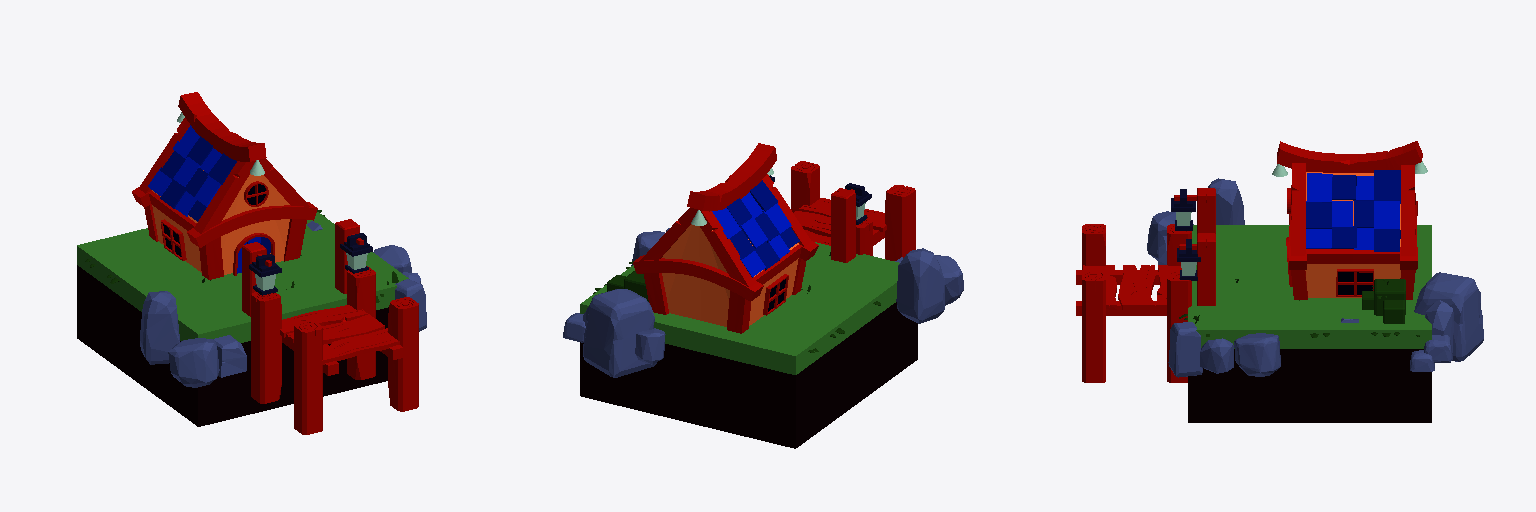
File: house.obj
3 views of the same model, side by side, from view 1: azimuth 30°, elevation 25°; view 2: azimuth 150°, elevation 25°; view 3: azimuth 270°, elevation 25° (orthographic).
Visible parts, largest first — view 1: Base_Cubo.044, wood_Cubo.001, Cubo.044_Cubo.045, Cubo.045, walls_Cubo, Cubo_Cubo.045, woodup_Cubo.004, Cubo.103_Cubo.118, Cubo.102_Cubo.117, Cubo.043_Cubo.045, Cubo.038_Cubo.047, Cubo.042_Cubo.052 (+9 smaller); view 2: Base_Cubo.044, wood_Cubo.001, Cubo.056_Cubo.071, walls_Cubo, Cubo.103_Cubo.118, woodup_Cubo.004, Cubo.045, Cubo.046_Cubo.001, Cubo_Cubo.045, Cubo.058_Cubo.073, Cubo.102_Cubo.117, Cubo.041_Cubo.051 (+3 smaller); view 3: Base_Cubo.044, wood_Cubo.001, Cubo.056_Cubo.071, woodup_Cubo.004, Cubo_Cubo.045, walls_Cubo, Cubo.055_Cubo.070, Cubo.052_Cubo.063, Cubo.041_Cubo.051, Cubo.043_Cubo.045, Cubo.046_Cubo.056, Cubo.103_Cubo.118 (+22 smaller).
Boxes of the visible parts, box(x1,y1,x2,y2) form: Base_Cubo.044: box(77, 212, 408, 426); wood_Cubo.001: box(132, 118, 317, 279); Cubo.044_Cubo.045: box(251, 292, 281, 403); Cubo.045: box(294, 320, 322, 434); walls_Cubo: box(152, 170, 289, 274); Cubo_Cubo.045: box(388, 297, 418, 411); woodup_Cubo.004: box(178, 92, 266, 161); Cubo.103_Cubo.118: box(140, 291, 179, 364); Cubo.102_Cubo.117: box(168, 338, 219, 387); Cubo.043_Cubo.045: box(347, 266, 375, 379); Cubo.038_Cubo.047: box(322, 328, 399, 364); Cubo.042_Cubo.052: box(280, 305, 367, 337); Base_Cubo.044: box(580, 242, 917, 448); wood_Cubo.001: box(633, 174, 818, 333); Cubo.056_Cubo.071: box(583, 289, 656, 377); walls_Cubo: box(662, 224, 798, 326); Cubo.103_Cubo.118: box(896, 248, 944, 323); woodup_Cubo.004: box(687, 143, 776, 211); Cubo.045: box(885, 185, 915, 260); Cubo.046_Cubo.001: box(831, 188, 855, 262); Cubo_Cubo.045: box(791, 161, 819, 212); Cubo.058_Cubo.073: box(635, 328, 665, 364); Cubo.102_Cubo.117: box(935, 255, 963, 305); Cubo.041_Cubo.051: box(793, 211, 878, 238); Base_Cubo.044: box(1188, 225, 1431, 422); wood_Cubo.001: box(1289, 163, 1417, 299); Cubo.056_Cubo.071: box(1414, 272, 1483, 361); woodup_Cubo.004: box(1277, 141, 1422, 172); Cubo_Cubo.045: box(1082, 271, 1105, 382); walls_Cubo: box(1305, 172, 1400, 297); Cubo.055_Cubo.070: box(1234, 333, 1280, 376); Cubo.052_Cubo.063: box(1168, 322, 1202, 377); Cubo.041_Cubo.051: box(1118, 265, 1155, 309); Cubo.043_Cubo.045: box(1167, 271, 1191, 382); Cubo.046_Cubo.056: box(1197, 233, 1215, 305); Cubo.103_Cubo.118: box(1208, 178, 1244, 224).
Bounding box in the file's own units: 4.2 × 3.13 × 5.16.